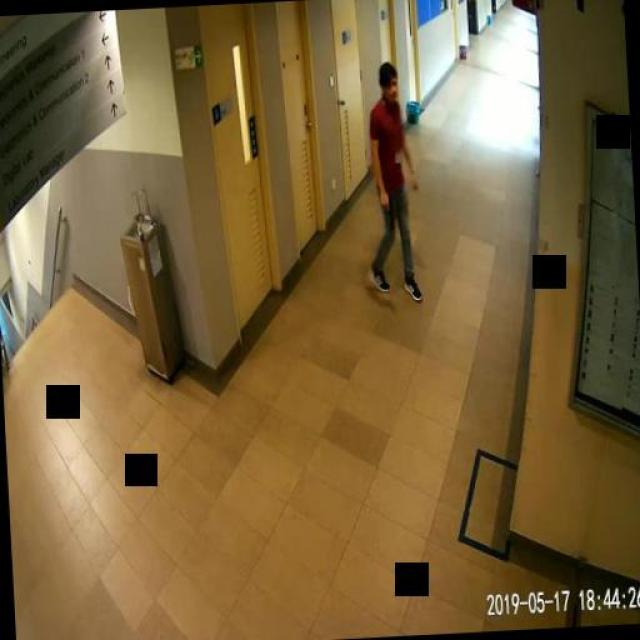gun: (380, 192, 392, 226)
